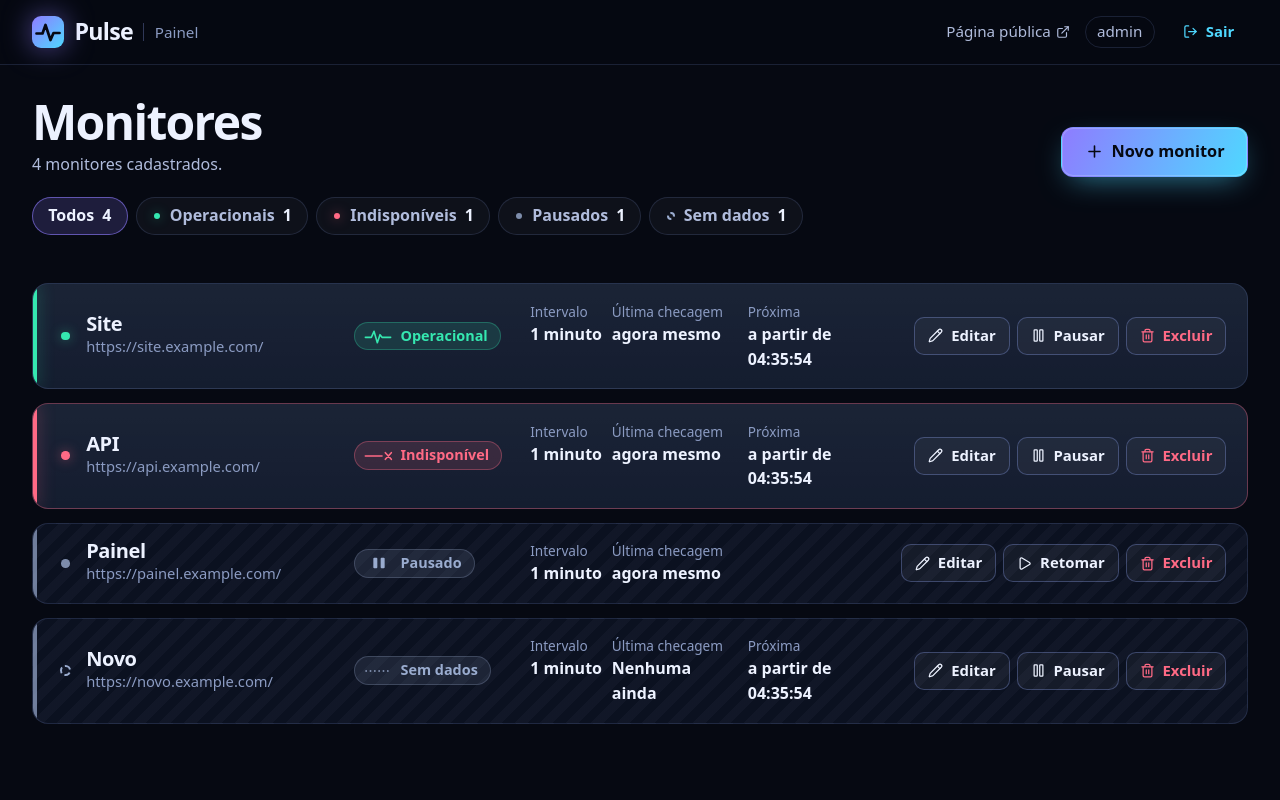
Test: sessão que acaba no meio do uso › 401 numa operação: volta ao login com aviso e apaga o token da memória
This screenshot has width=1280, height=800.
Expected: the element "Site" is shown, [32, 283, 1248, 389]
Click the button with aria-label "Pausar Site" at [1068, 336], box [1017, 317, 1118, 355]
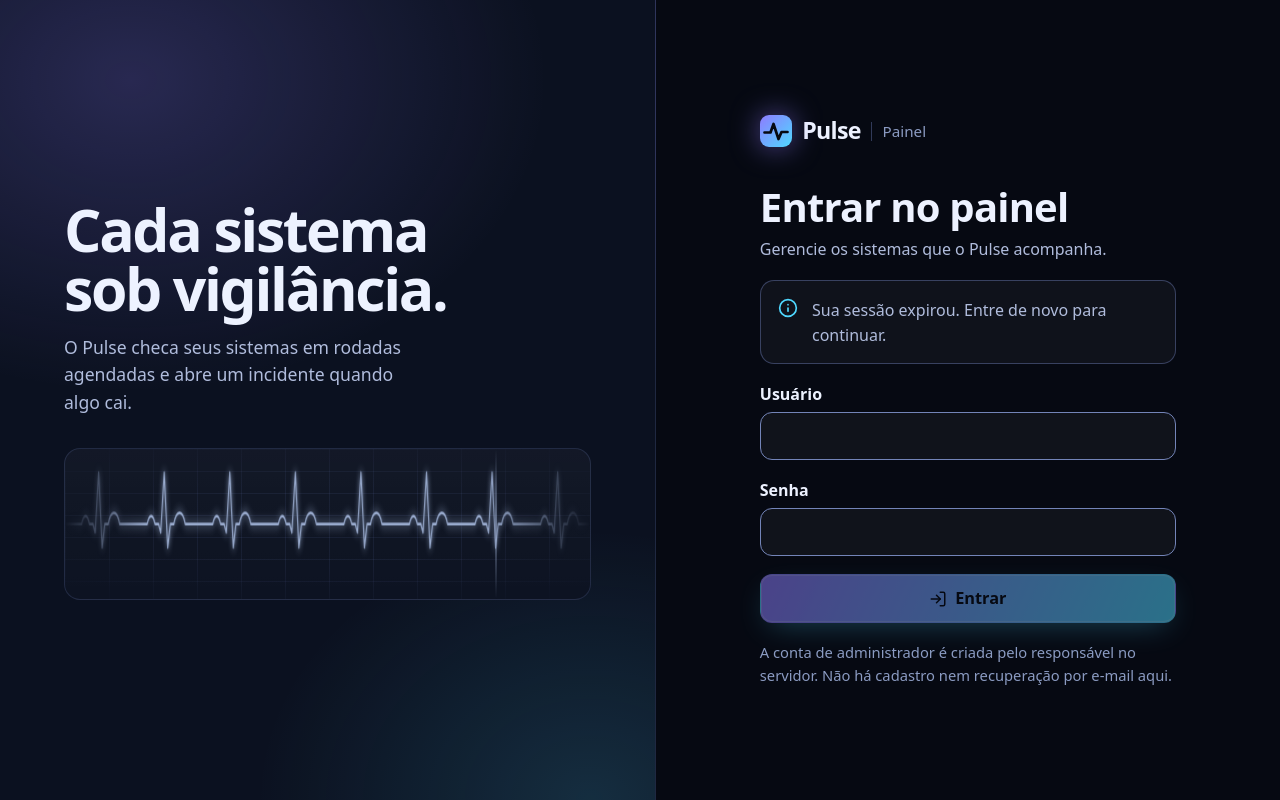
Expected: the heading "Entrar no painel" is shown, [760, 179, 1068, 234]
Expected: the text "Sua sessão expirou. Entre de novo para continuar." is shown, [812, 298, 1157, 348]
